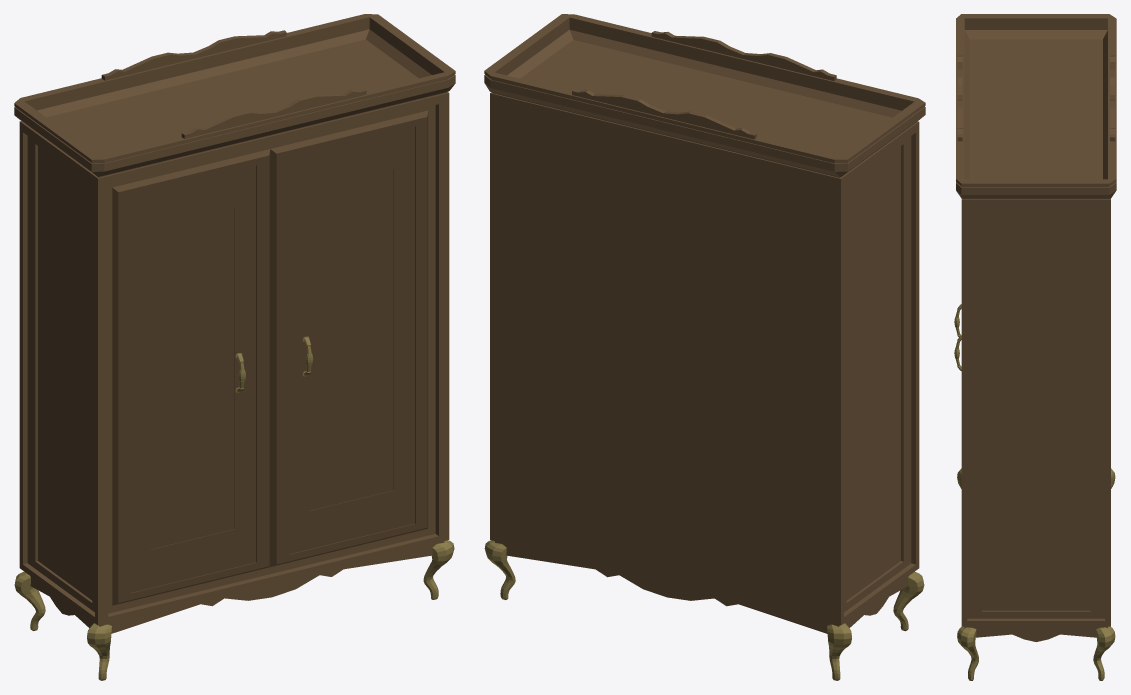
File: furn-wardrobe-3door-tall.glb
3 views of the same model, side by side, from view 1: azimuth 30°, elevation 25°; view 2: azimuth 150°, elevation 25°; view 3: azimuth 270°, elevation 25° (orthographic). The views are drawn at different scales.
Visible parts, largest first — view 1: Closet, Closet_RightDoor, Closet_LeftDoor; view 2: Closet; view 3: Closet.
Part boxes in pixels (x1=…): Closet: x1=14, y1=14, x2=455, y2=680; Closet_RightDoor: x1=270, y1=110, x2=428, y2=566; Closet_LeftDoor: x1=112, y1=149, x2=270, y2=605; Closet: x1=484, y1=14, x2=925, y2=680; Closet: x1=956, y1=14, x2=1116, y2=680.
Bounding box in the file's own units: 1.5 × 2.1 × 0.6.
